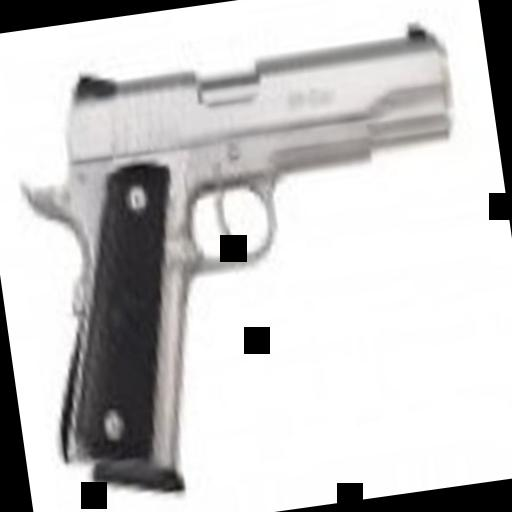Handgun: (4, 22, 500, 497)
